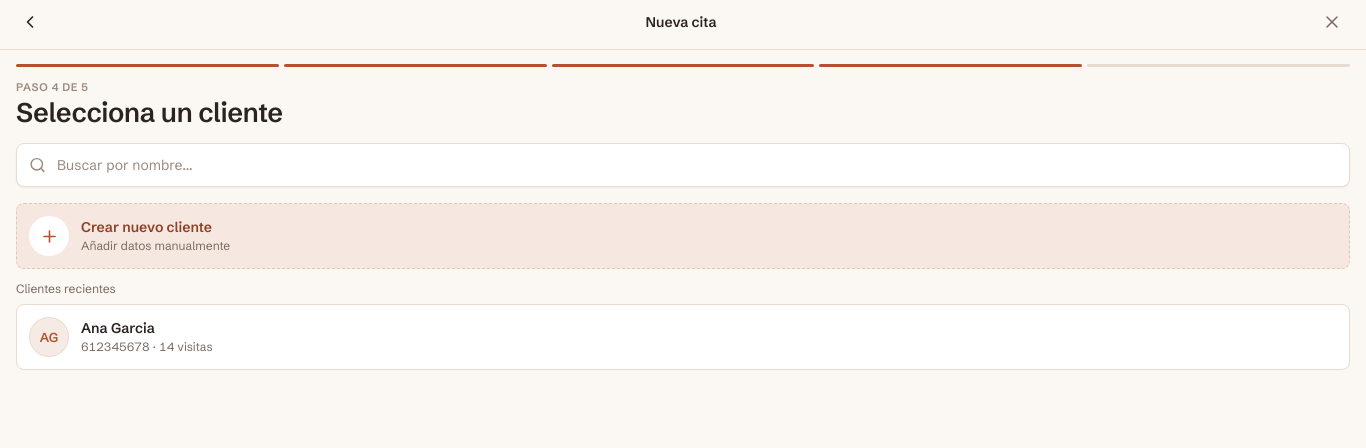
Test case: ClientStep › 'Crear nuevo cliente' abre el formulario de alta en linea
What coordinates should you click on to do the following:
click the button "Crear nuevo cliente Añadir datos manualmente"
I would click on:
 (49, 236)
Its box is [16, 203, 1350, 269].
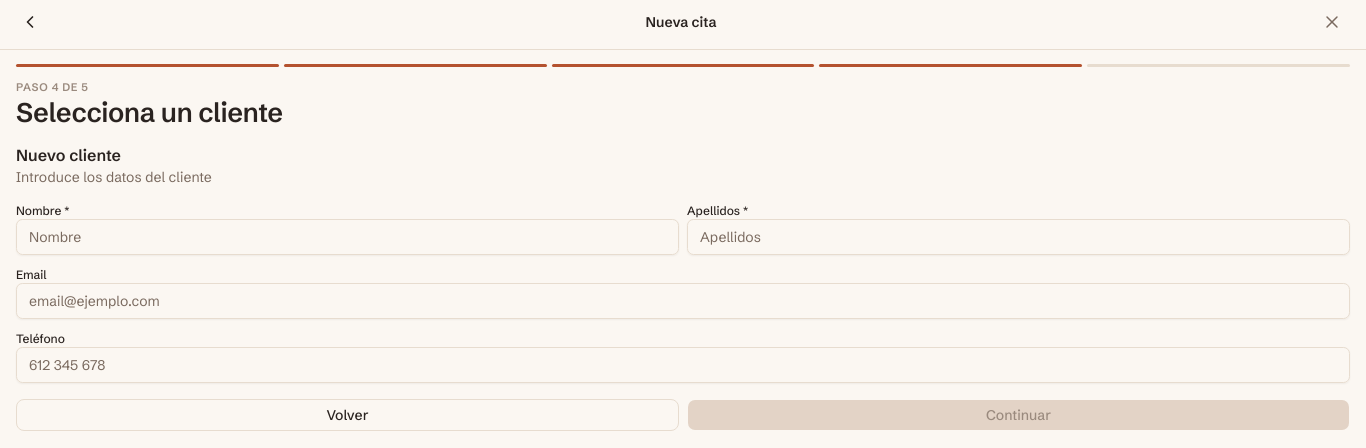
Result: the field labelled "Nombre *" is shown at [16, 219, 679, 255]
Result: the field labelled "Apellidos *" is shown at [687, 219, 1350, 255]
